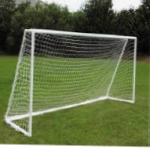goals: (5, 27, 140, 138)
